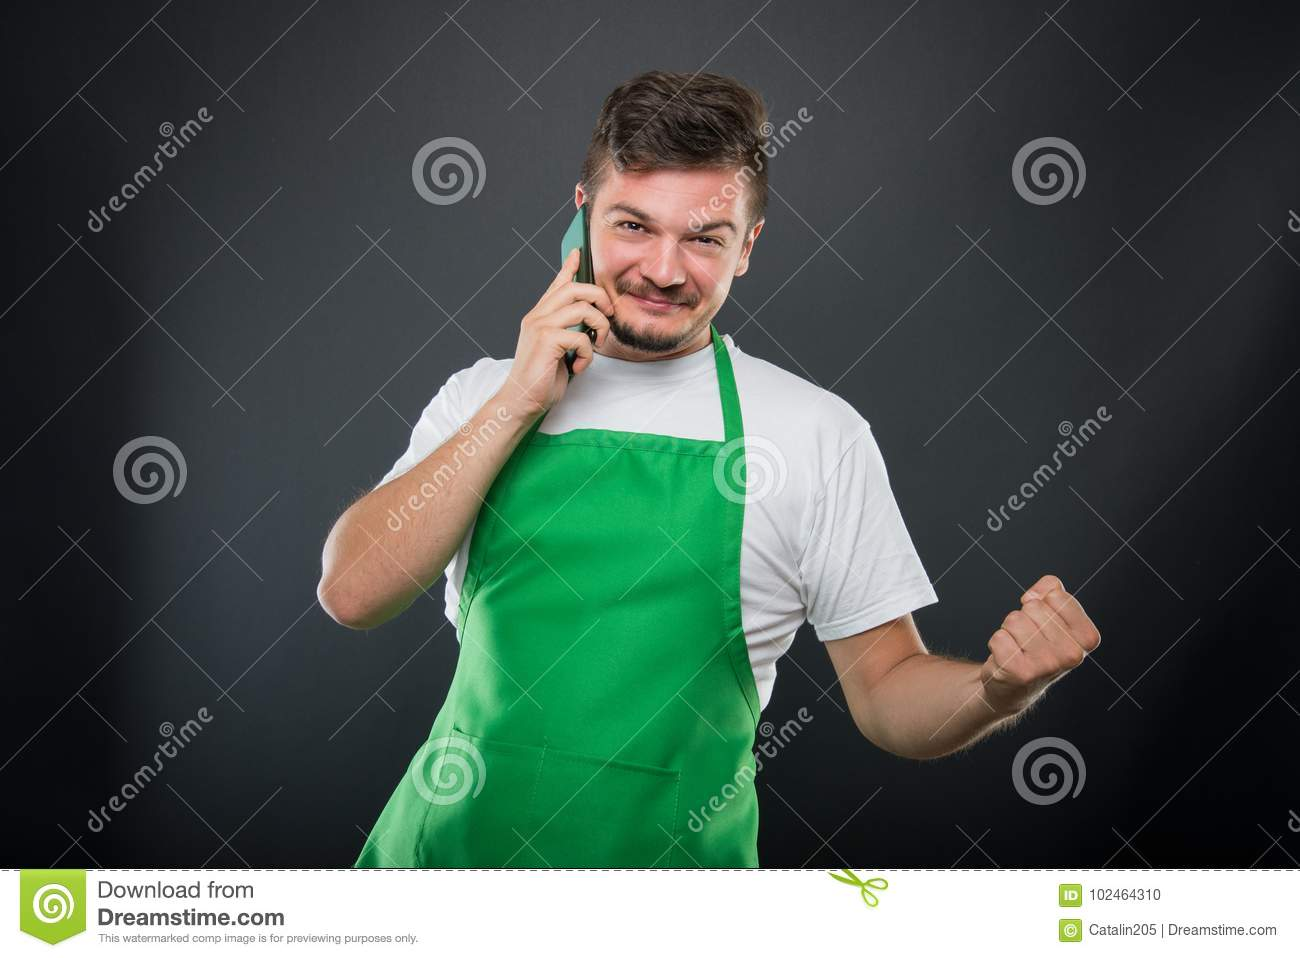phone: (559, 203, 601, 369)
talk: (510, 198, 746, 425)
